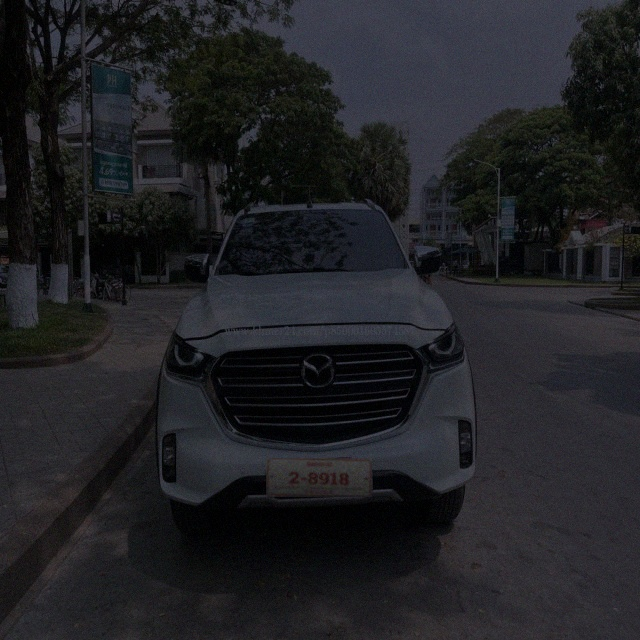Plate Number: (266, 458, 373, 498)
